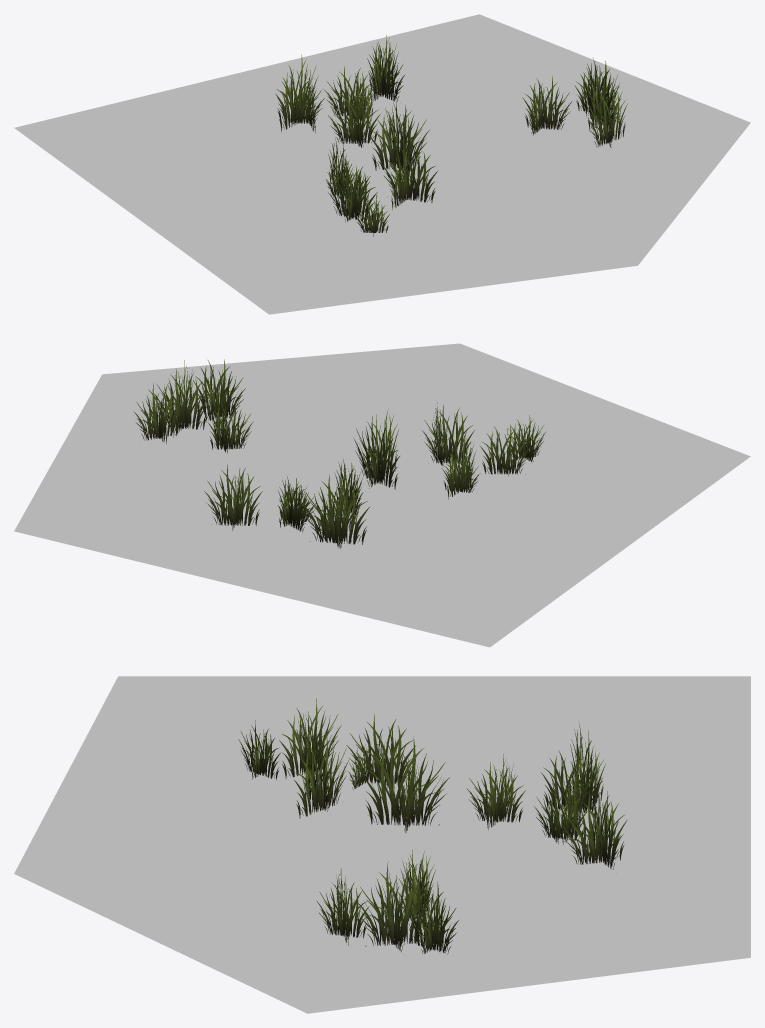
File: Mud_Decal_05.fbx
The picture shows the model from 3 angles, top to bottom: view 1: azimuth 30°, elevation 25°; view 2: azimuth 150°, elevation 25°; view 3: azimuth 270°, elevation 25°; orthographic projection. The views are drawn at different scales.
Parts seen in each view (by area): view 1: Mud_Decal_05; view 2: Mud_Decal_05; view 3: Mud_Decal_05.
Boxes of the visible parts, bbox=[...] form: Mud_Decal_05: bbox=[14, 14, 750, 314]; Mud_Decal_05: bbox=[14, 343, 750, 647]; Mud_Decal_05: bbox=[14, 676, 750, 1013].
Size of the model in its own units: 8.8 by 8.12 by 1.13.
